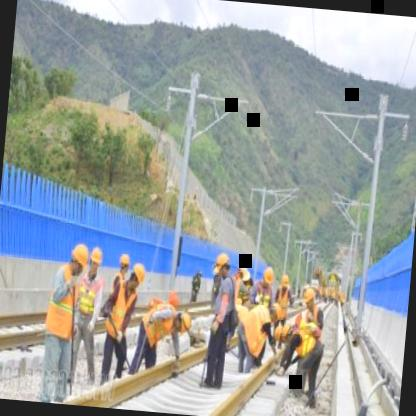helmet: (67, 240, 91, 276), (86, 244, 107, 280), (126, 261, 149, 293), (213, 253, 235, 278), (174, 311, 194, 337), (265, 300, 284, 324), (301, 285, 318, 310), (261, 263, 276, 290), (280, 324, 296, 344), (118, 252, 132, 274), (281, 272, 293, 292)
